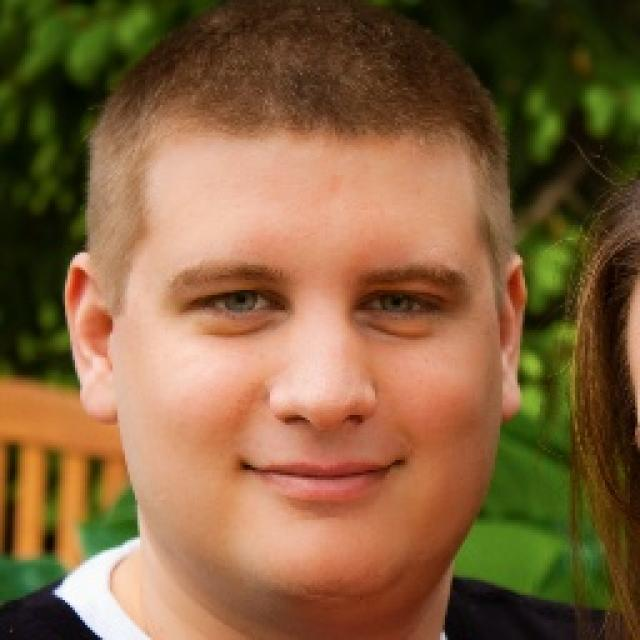earlobe: (78, 365, 120, 423), (499, 362, 522, 421)
eye: (355, 292, 445, 319), (193, 289, 279, 315)
nose: (265, 408, 383, 470)
wholeear: (64, 252, 120, 423), (497, 254, 528, 420)
